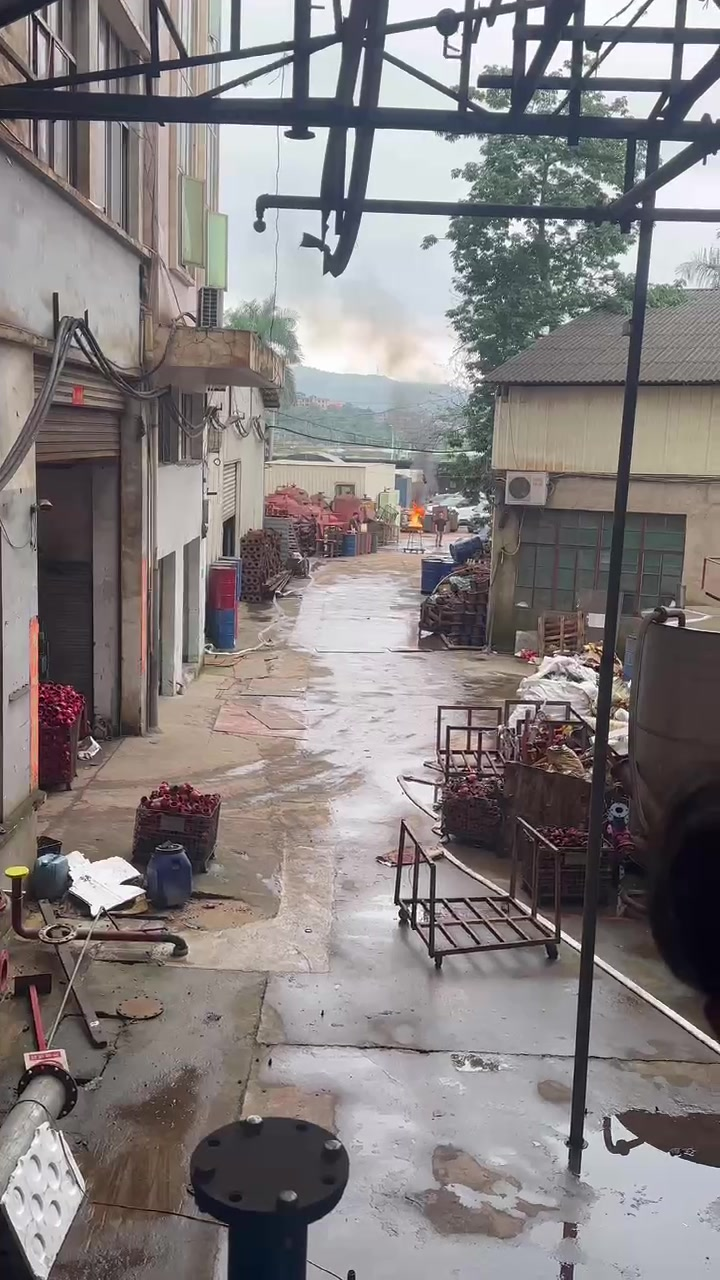fire: (407, 506, 423, 526)
